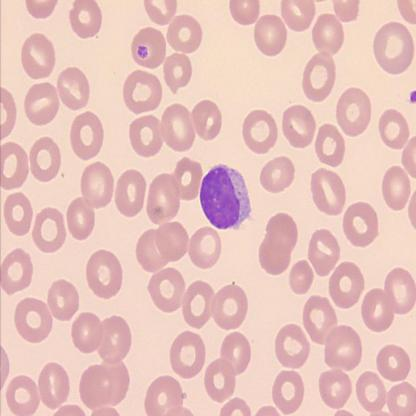Lymphocyte: (199, 163, 252, 230)
